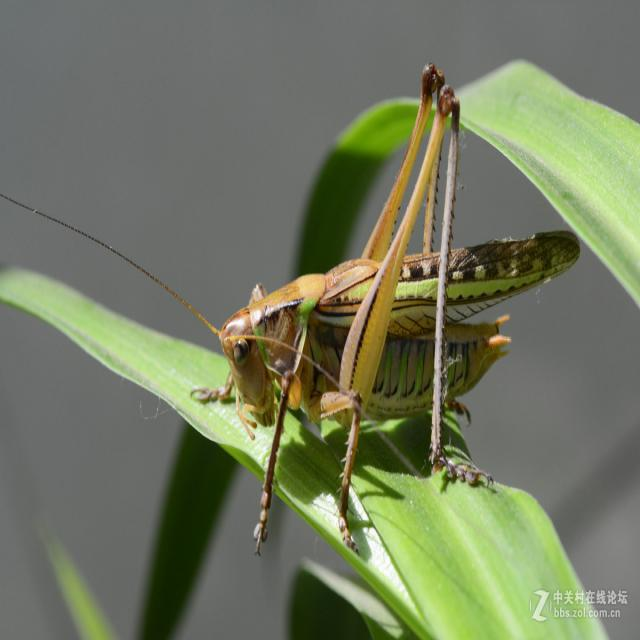ZhaMeng: (206, 49, 590, 491)
